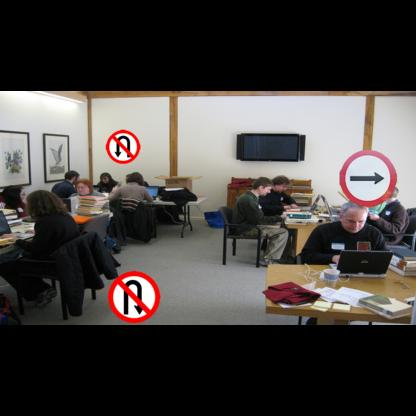R-24a: (340, 149, 397, 207)
R-5a: (106, 130, 140, 164)
